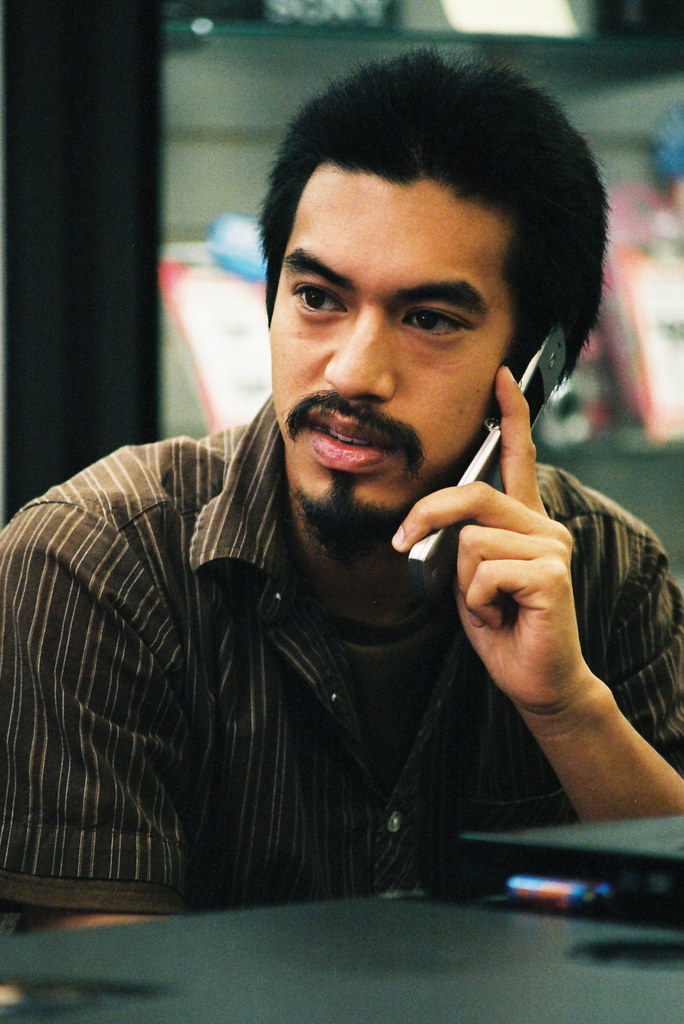phone: (444, 318, 585, 609)
talk: (268, 237, 585, 676)
